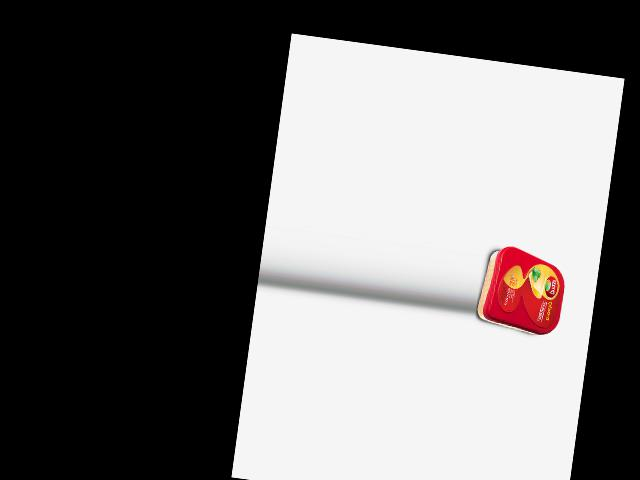cheese: (475, 243, 569, 337)
